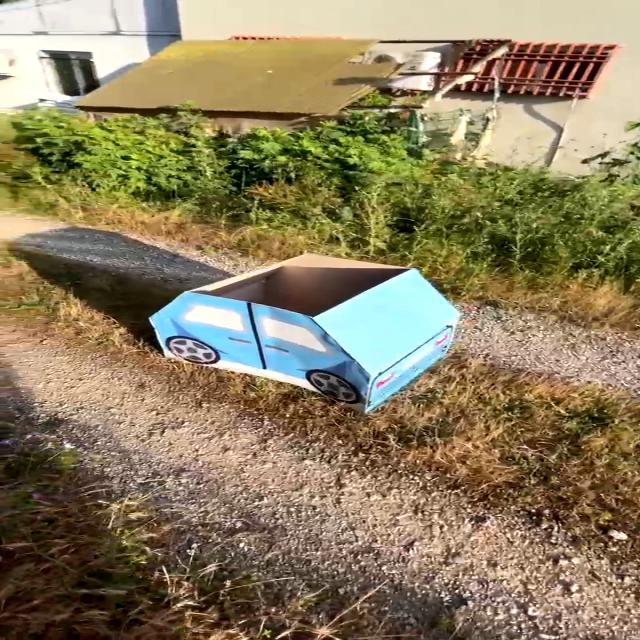blue_car: (94, 240, 498, 417)
